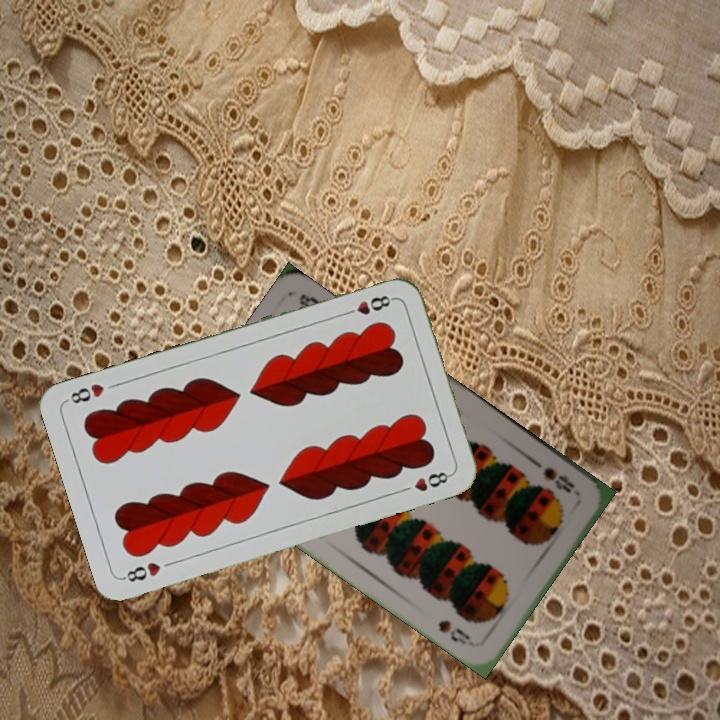H8: (339, 291, 397, 319), (119, 558, 163, 585)
S8: (539, 463, 577, 496)
